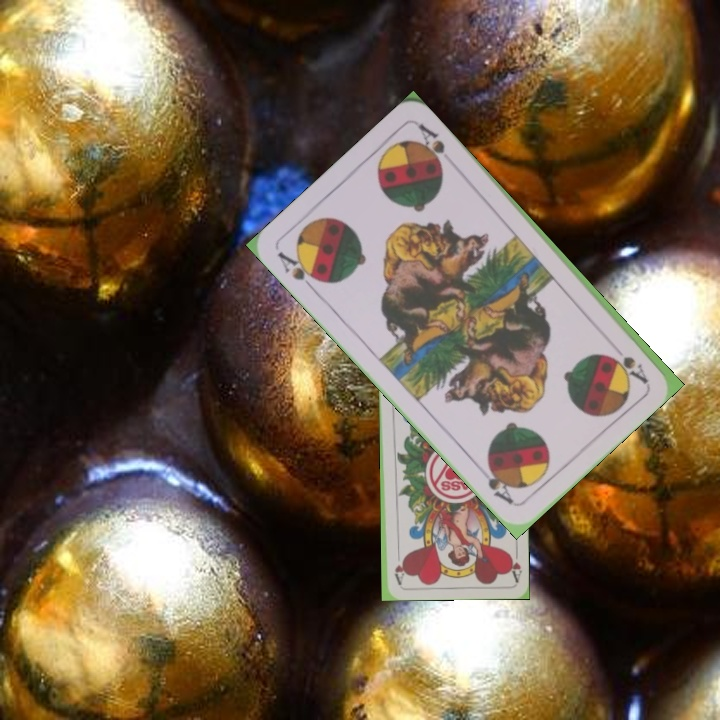HA: (505, 542, 525, 583)
SA: (273, 247, 326, 295), (605, 337, 650, 386)
